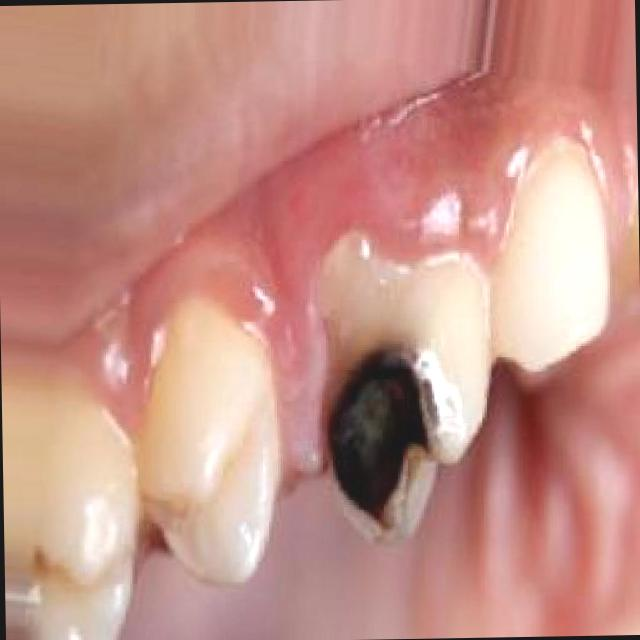caries: (321, 350, 458, 526)
